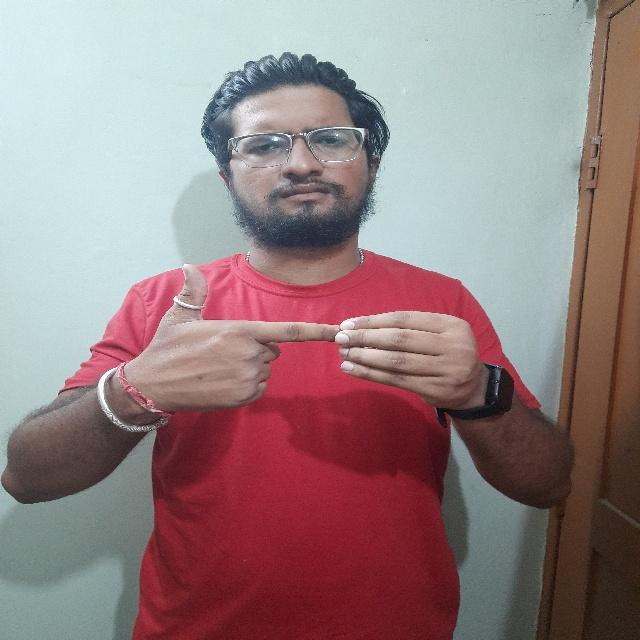Five Fathers: (125, 257, 479, 426)
